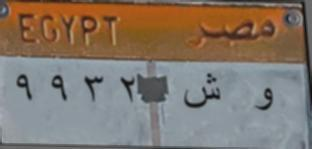2: (119, 73, 138, 106)
3: (82, 71, 106, 107)
9: (48, 69, 70, 107), (14, 71, 36, 108)
sheen: (180, 65, 223, 122)
waw: (250, 83, 275, 121)
